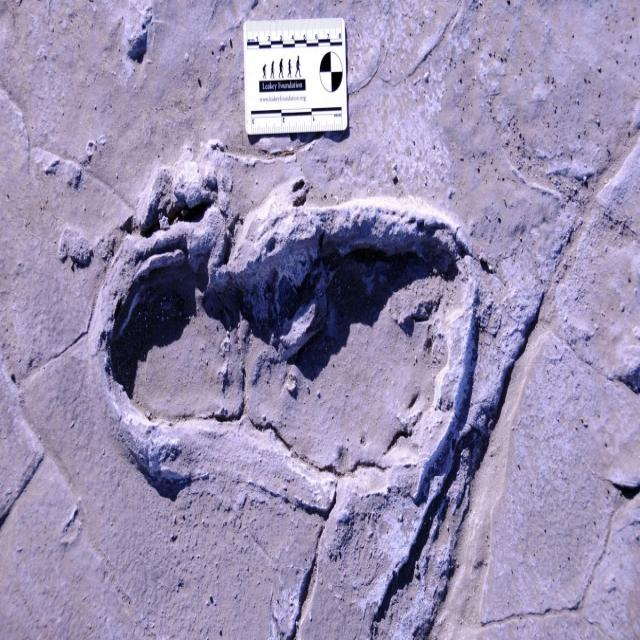human_footprint: (61, 109, 518, 571), (240, 16, 350, 138)
